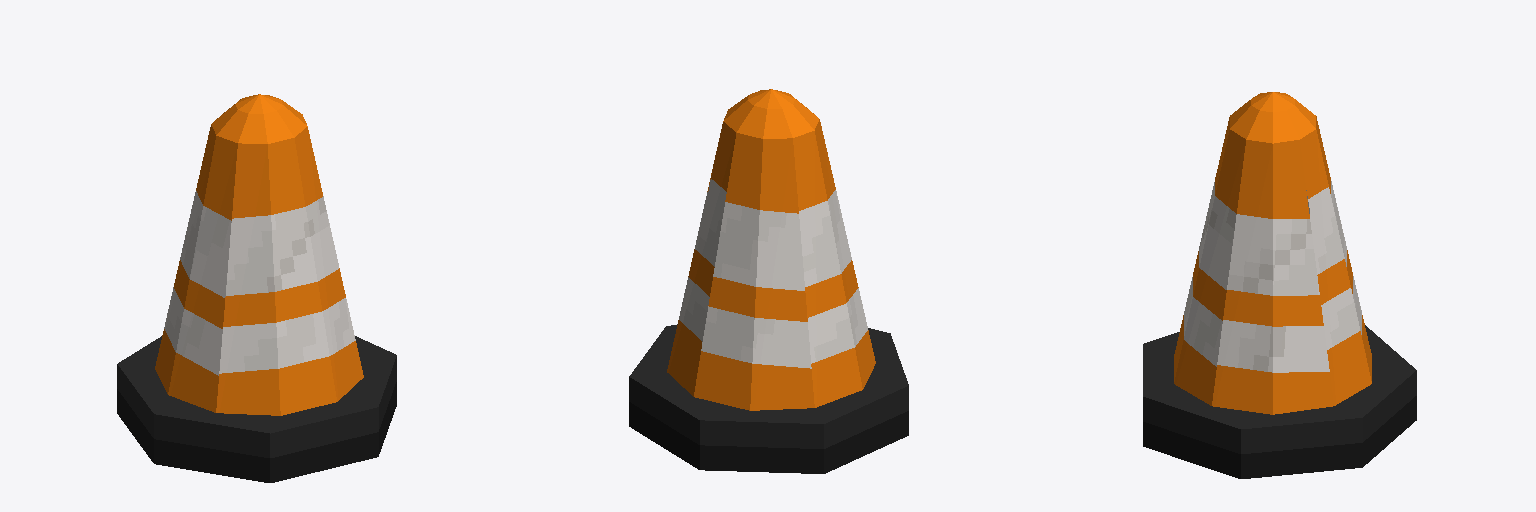
3 views of the same model, side by side, from view 1: azimuth 30°, elevation 25°; view 2: azimuth 150°, elevation 25°; view 3: azimuth 270°, elevation 25° (orthographic).
Parts seen in each view (by area): view 1: cylinder; view 2: cylinder; view 3: cylinder.
Part boxes in pixels (x1,y1,x2,y2): cylinder: (117, 94, 396, 482); cylinder: (629, 89, 908, 473); cylinder: (1143, 92, 1416, 478).
Size of the model in its own units: 1.11 by 1.44 by 1.09.
1 materials, 1 textured.